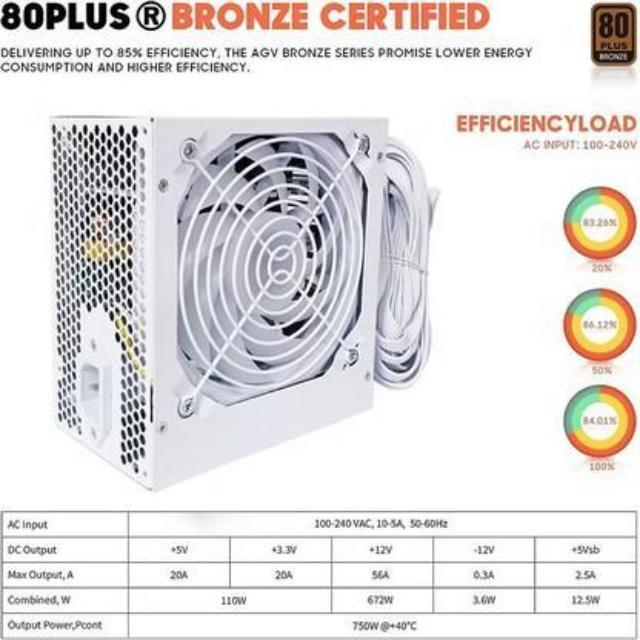PSU: (37, 98, 423, 492)
